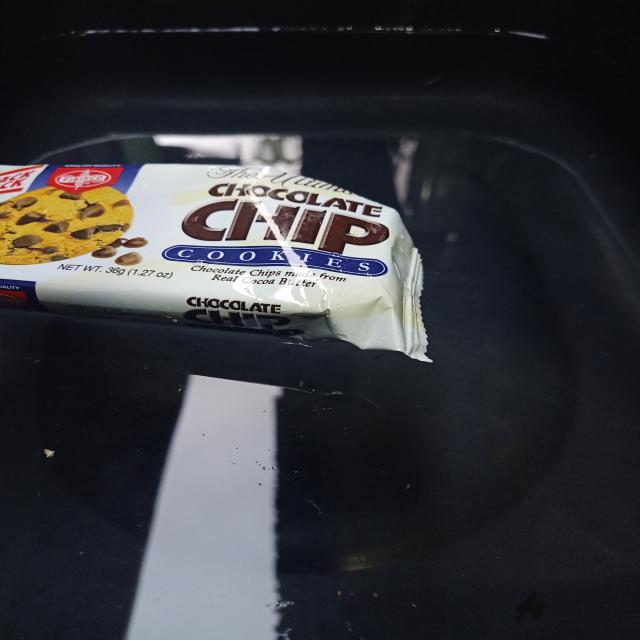Plastic Wrapper: (0, 130, 461, 388)
